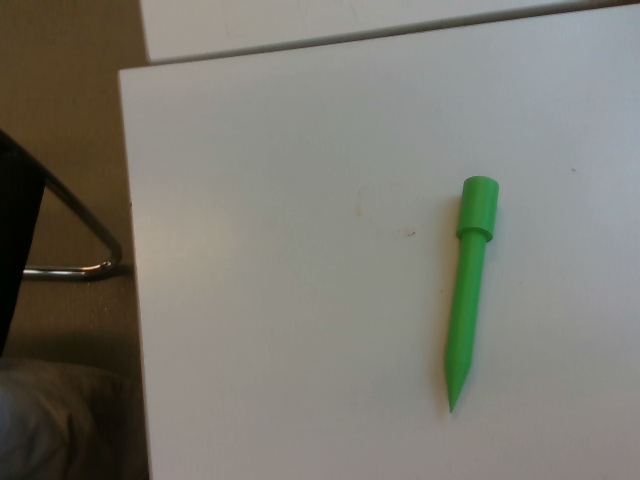Probe: (438, 169, 505, 418)
